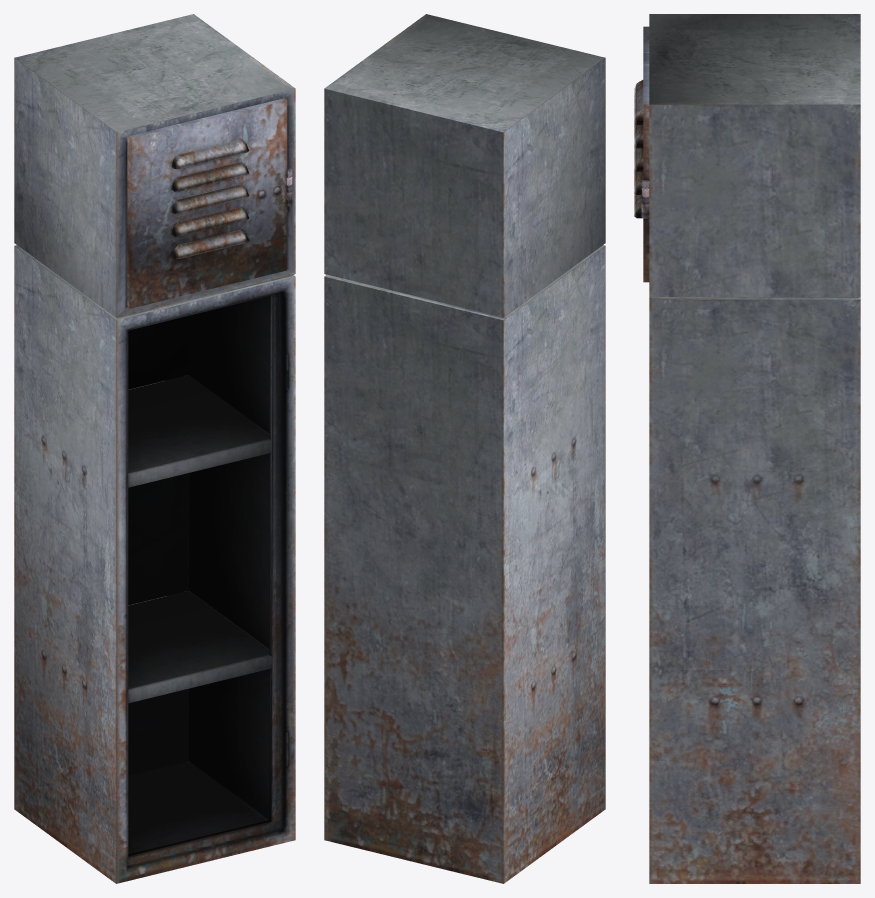
File: Locker.obj
The picture shows the model from 3 angles, left to right: view 1: azimuth 30°, elevation 25°; view 2: azimuth 150°, elevation 25°; view 3: azimuth 270°, elevation 25°; orthographic projection. The views are drawn at different scales.
Visible parts, largest first — view 1: OBJ_LOCKER_CLOTHING; view 2: OBJ_LOCKER_CLOTHING; view 3: OBJ_LOCKER_CLOTHING.
Boxes of the visible parts, bbox=[...] form: OBJ_LOCKER_CLOTHING: bbox=[14, 14, 295, 883]; OBJ_LOCKER_CLOTHING: bbox=[324, 14, 605, 883]; OBJ_LOCKER_CLOTHING: bbox=[634, 14, 860, 883].
Size of the model in its own units: 64 by 256 by 67.49.
Materials: 1 (1 with a texture image).
